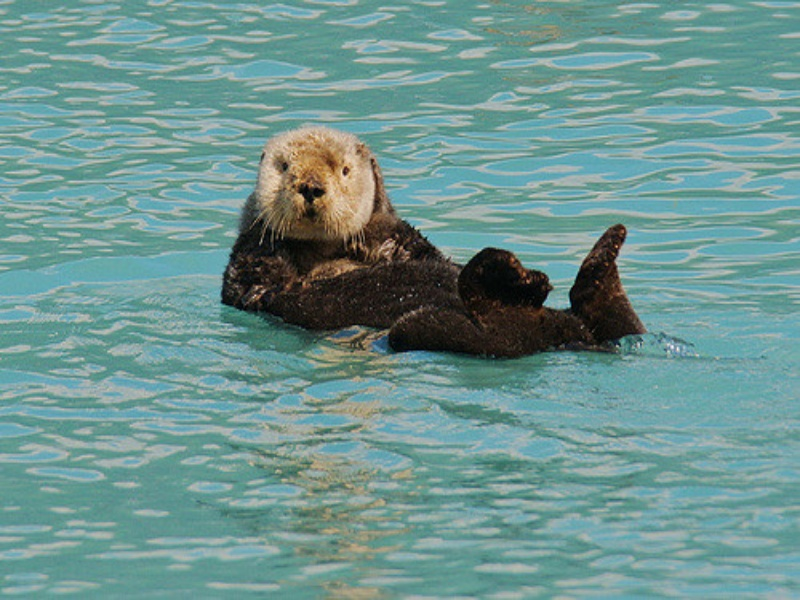minkish: (211, 122, 647, 372)
